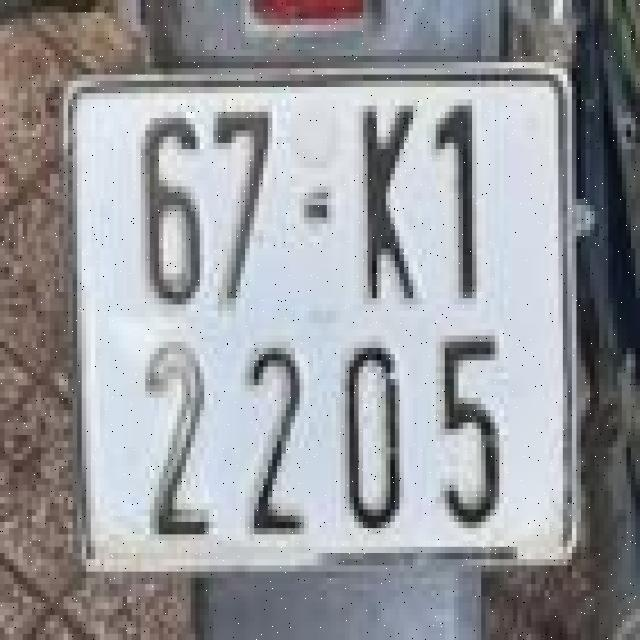0: (334, 329, 406, 541)
1: (436, 81, 494, 298)
2: (132, 323, 213, 559), (236, 335, 309, 547)
5: (429, 311, 515, 534)
6: (134, 102, 211, 308)
7: (204, 96, 286, 320)
K: (345, 84, 422, 314)
